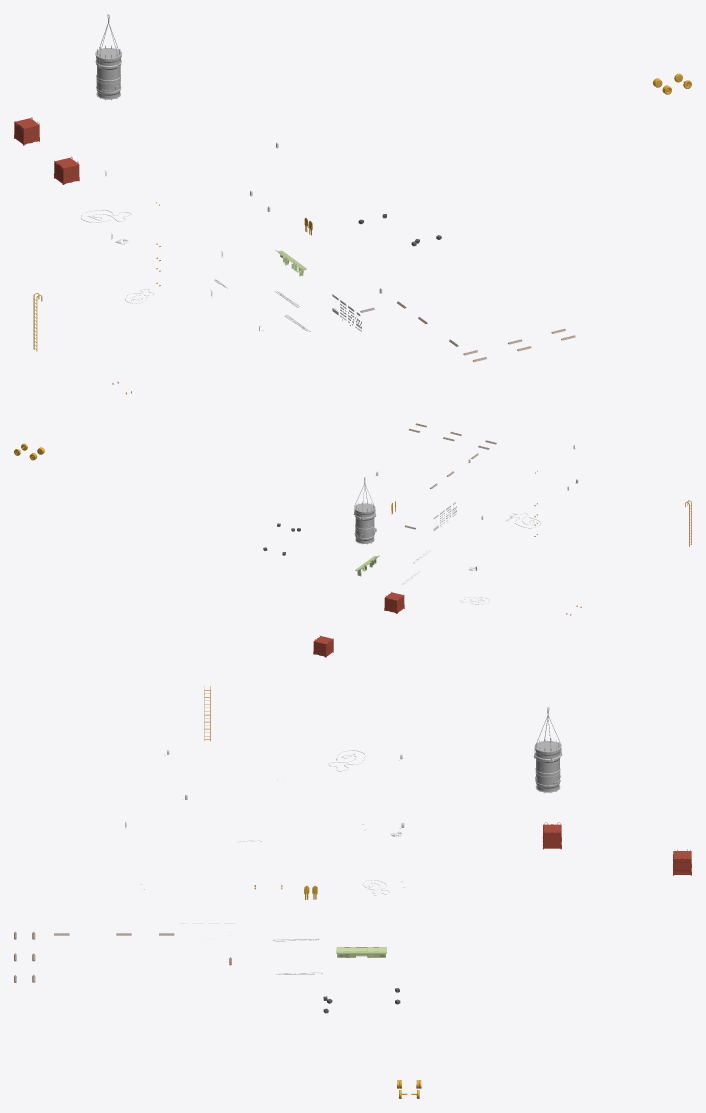
3 views of the same model, one above another, from view 1: azimuth 30°, elevation 25°; view 2: azimuth 150°, elevation 25°; view 3: azimuth 270°, elevation 25° (orthographic). The views are drawn at different scales.
Parts seen in each view (by area): view 1: n0_lr0_agg_merge_nuke_bombsite_target01_color_0_fragment4, n0_lr0_agg_merge_metal_crate_002b_1_fragment1_c0_-1; view 2: n0_lr0_agg_merge_nuke_bombsite_target01_color_0_fragment4, n0_lr0_agg_merge_metal_crate_002b_1_fragment1_c0_-1; view 3: n0_lr0_agg_merge_nuke_bombsite_target01_color_0_fragment4, n0_lr0_agg_merge_metal_crate_002b_1_fragment1_c0_-1.
Part boxes in pixels (box(x1,y1,x2,y2)): n0_lr0_agg_merge_nuke_bombsite_target01_color_0_fragment4: box(95, 14, 121, 100); n0_lr0_agg_merge_metal_crate_002b_1_fragment1_c0_-1: box(14, 117, 79, 184); n0_lr0_agg_merge_nuke_bombsite_target01_color_0_fragment4: box(353, 477, 376, 544); n0_lr0_agg_merge_metal_crate_002b_1_fragment1_c0_-1: box(313, 592, 404, 657); n0_lr0_agg_merge_nuke_bombsite_target01_color_0_fragment4: box(533, 707, 562, 792); n0_lr0_agg_merge_metal_crate_002b_1_fragment1_c0_-1: box(542, 822, 691, 875).
Bounding box in the file's own units: 3592 × 1101 × 2795.
